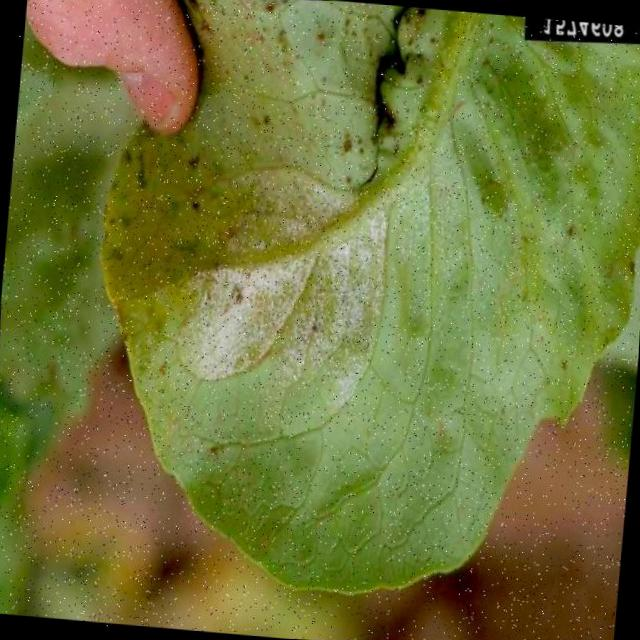Powdery_mildew_on_lettuce: (155, 139, 426, 424)
